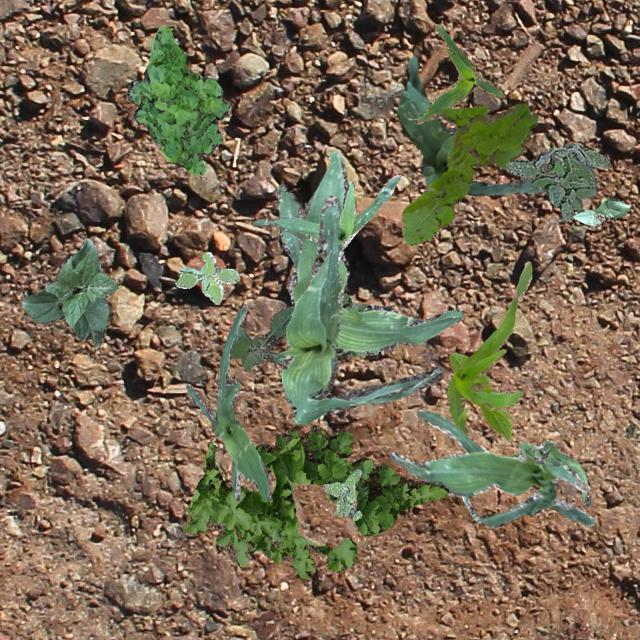crop: (274, 150, 462, 357), (279, 195, 442, 422), (388, 408, 594, 526), (396, 54, 546, 194), (184, 304, 270, 501), (446, 261, 530, 434), (251, 174, 399, 264), (20, 238, 116, 348), (412, 22, 504, 124), (461, 452, 589, 522), (448, 352, 511, 439), (570, 197, 630, 226)
weed: (182, 423, 448, 578), (401, 103, 536, 245), (125, 24, 228, 174), (505, 142, 609, 222), (229, 306, 293, 370), (174, 252, 238, 304), (322, 468, 361, 520), (524, 444, 560, 464)
